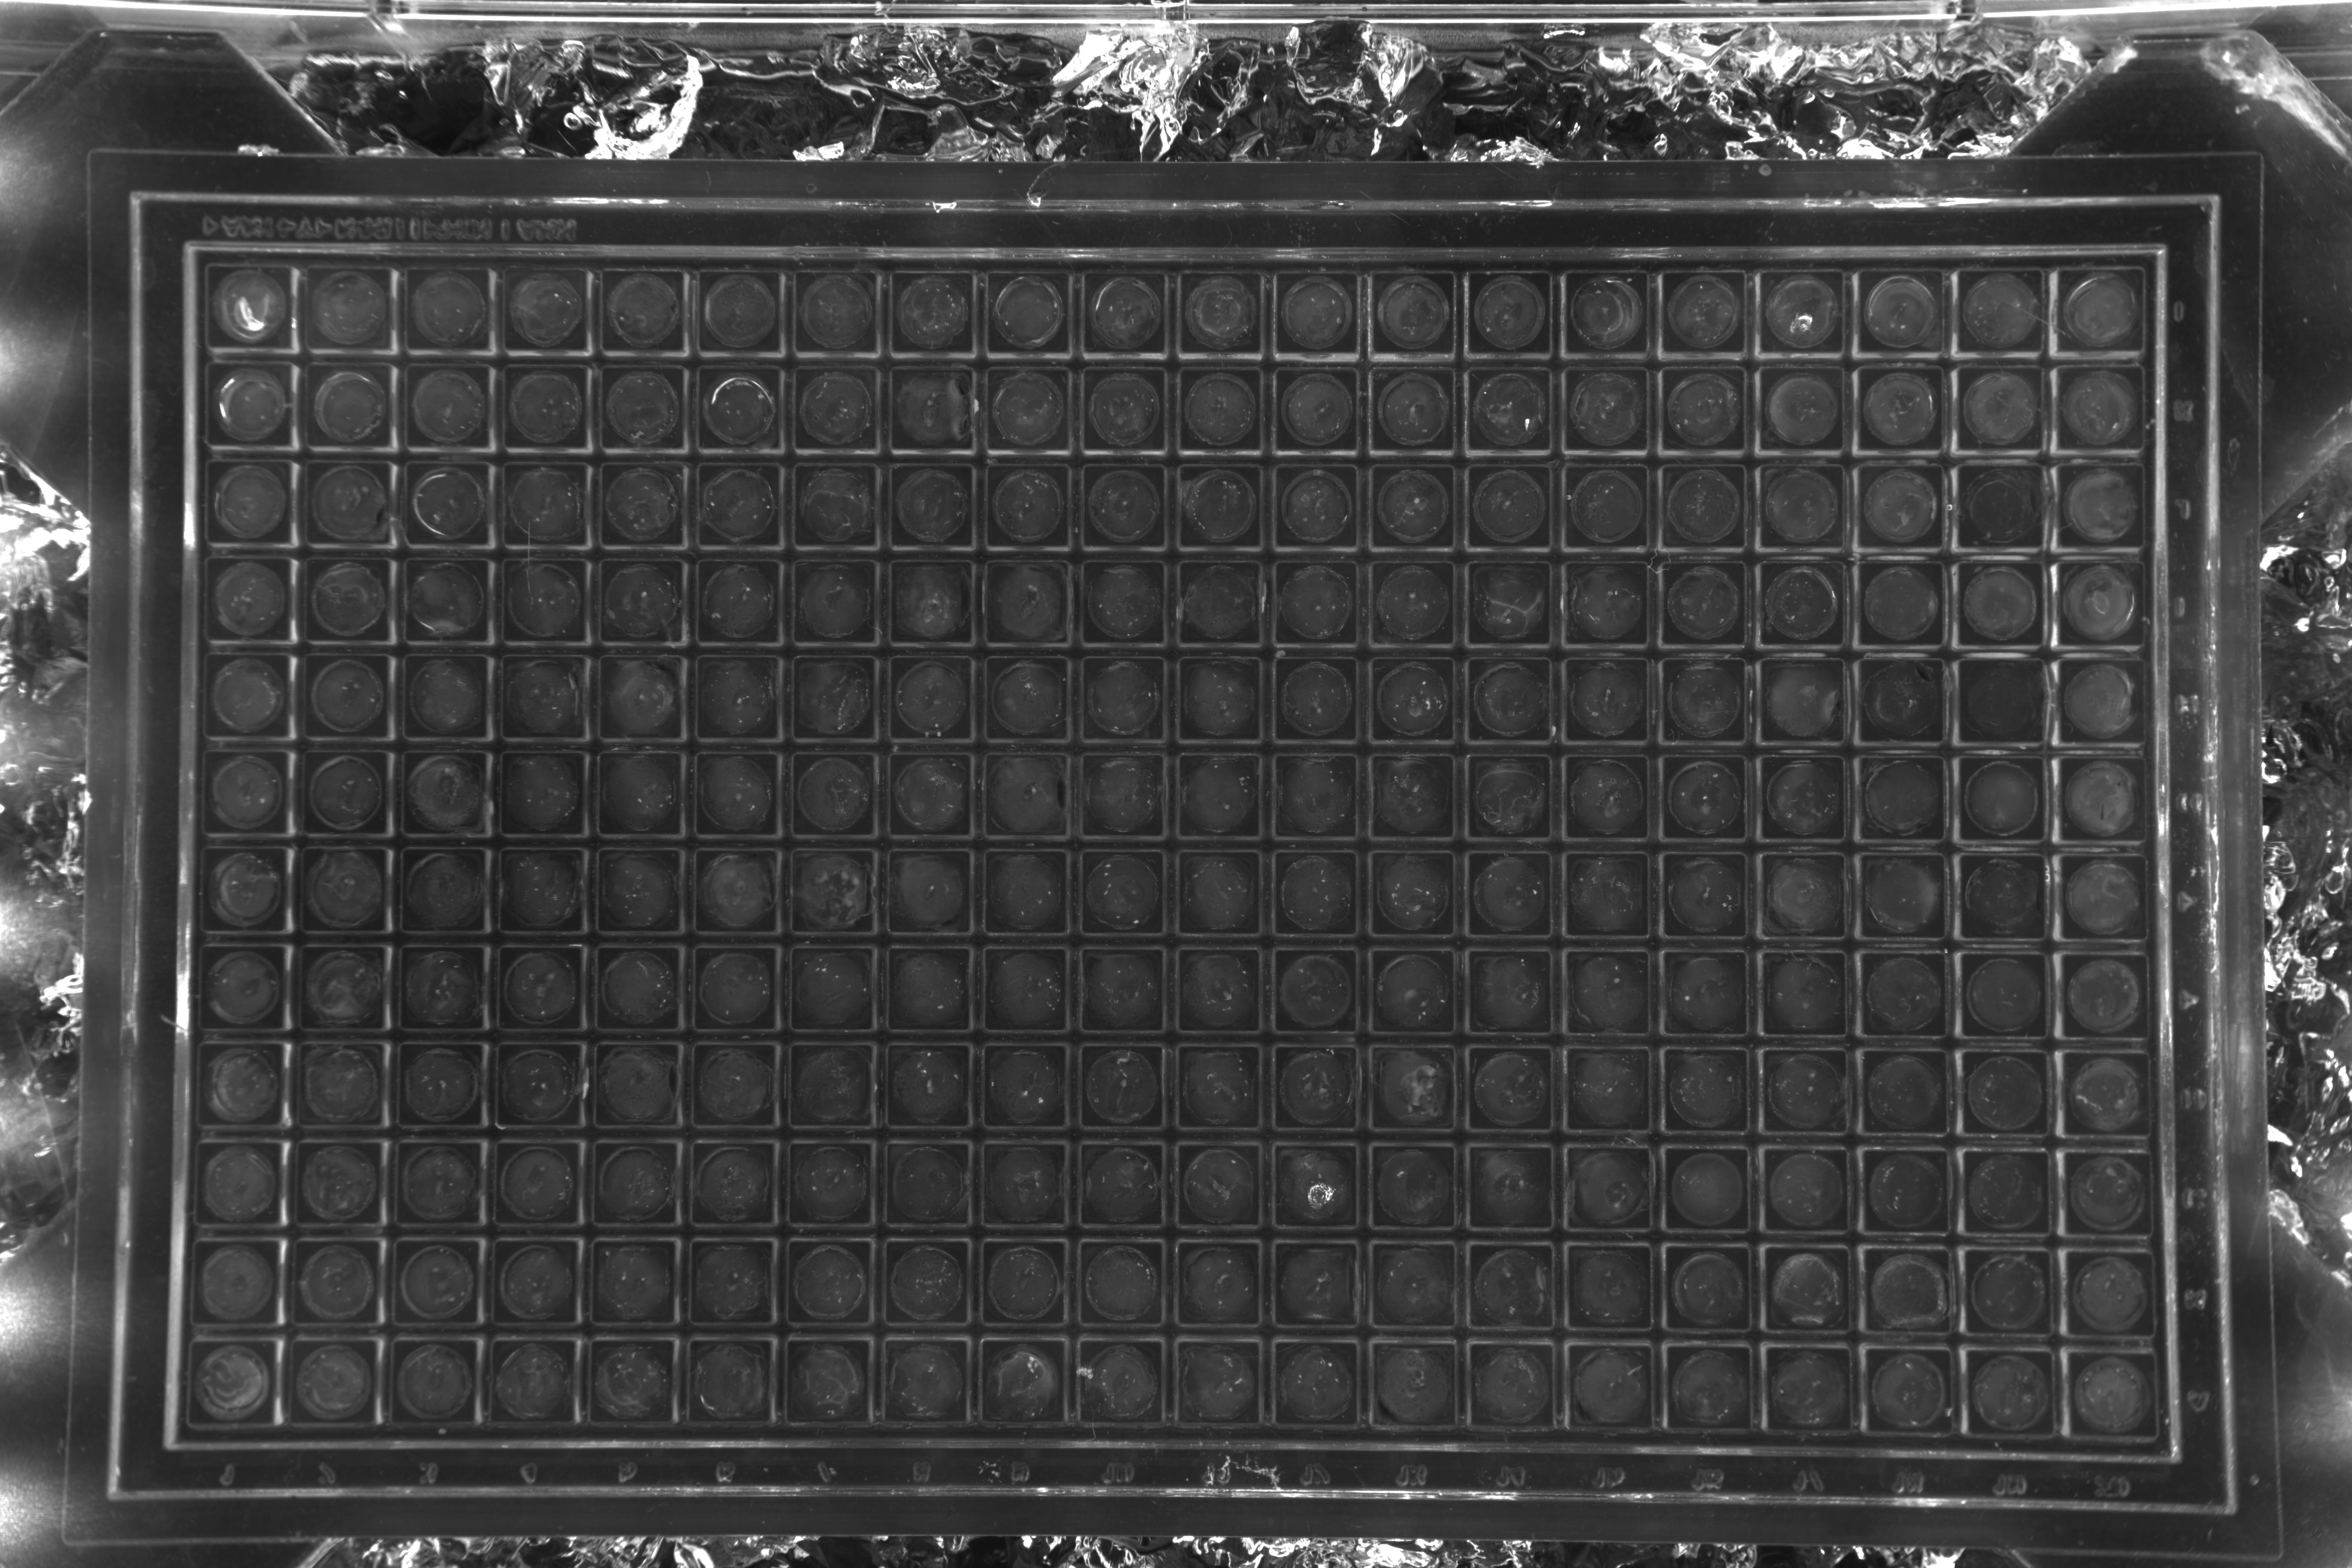WM_well: (688, 1043, 777, 1130), (2061, 1153, 2151, 1241), (192, 1242, 280, 1330), (301, 749, 388, 836), (303, 555, 390, 642), (390, 1242, 478, 1330), (486, 1340, 574, 1428), (595, 751, 682, 838), (688, 1141, 775, 1228), (887, 269, 975, 357), (983, 366, 1071, 453), (1078, 1337, 1165, 1424), (1176, 464, 1263, 551), (1372, 1340, 1459, 1428), (1465, 464, 1552, 551), (1470, 1342, 1557, 1430), (1561, 269, 1648, 357), (1662, 852, 1750, 940), (1760, 754, 1848, 842), (1762, 950, 1850, 1038), (1766, 1347, 1853, 1435), (1862, 952, 1949, 1039), (1962, 1052, 2049, 1139), (2054, 268, 2142, 355)
